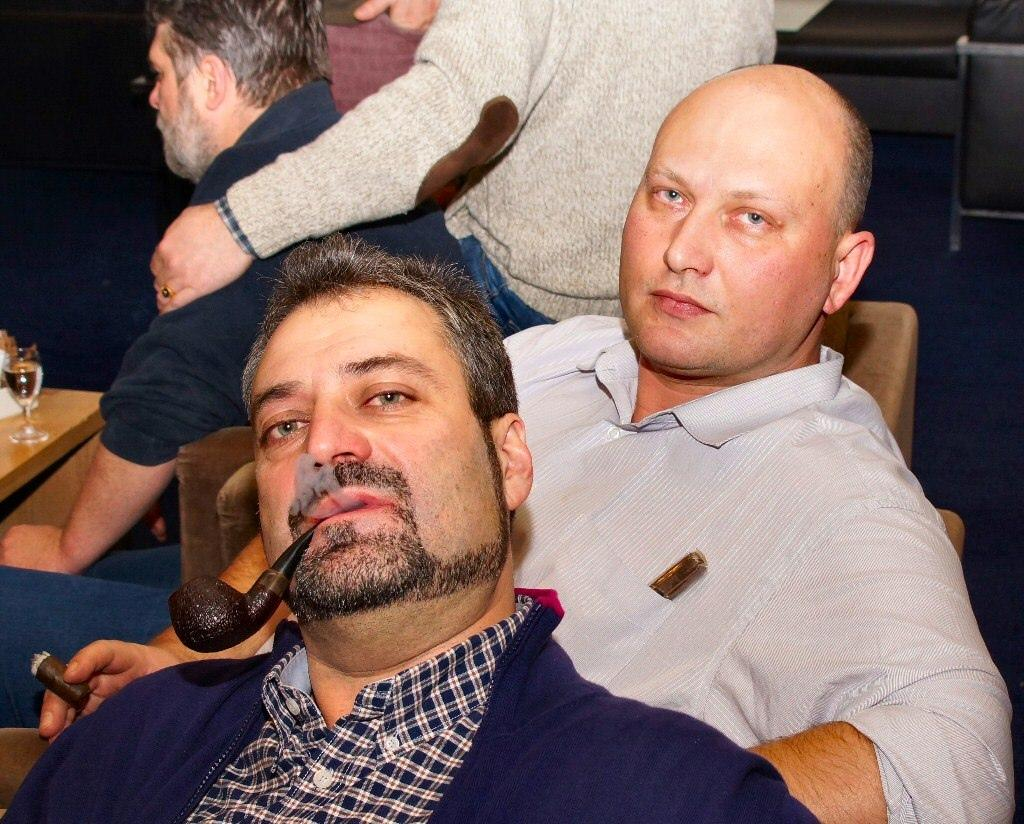trubka: (170, 529, 314, 652)
